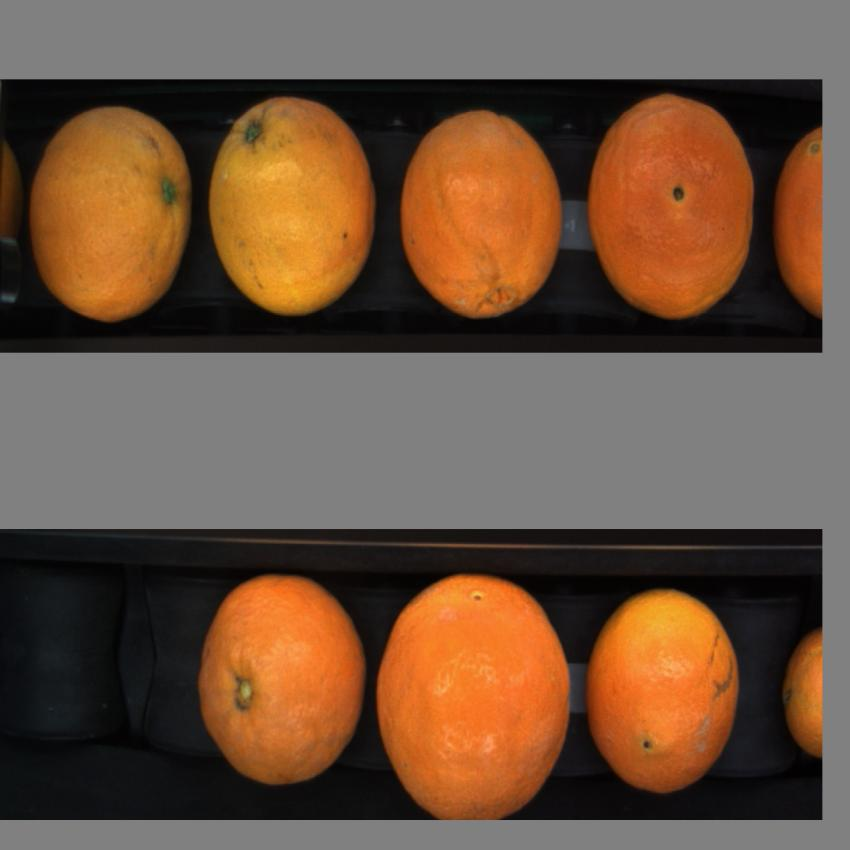Buen estado: (370, 563, 577, 816), (194, 568, 375, 789), (208, 92, 380, 316), (28, 101, 195, 325), (396, 112, 570, 325), (582, 582, 747, 804), (778, 621, 824, 770)
Mal estado: (588, 94, 758, 320), (769, 113, 822, 329)
